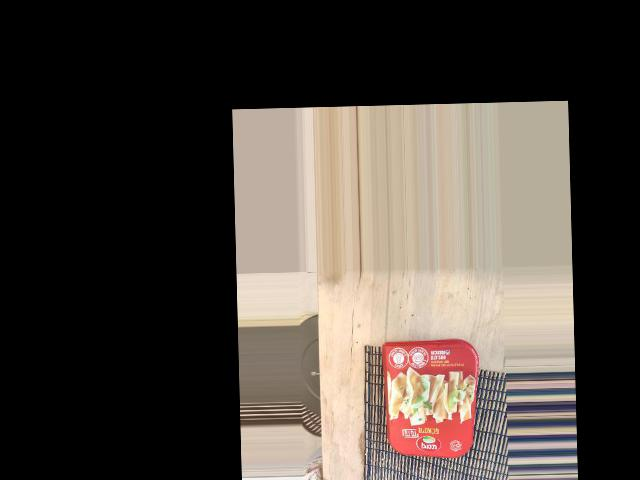cheese: (380, 422, 515, 480)
